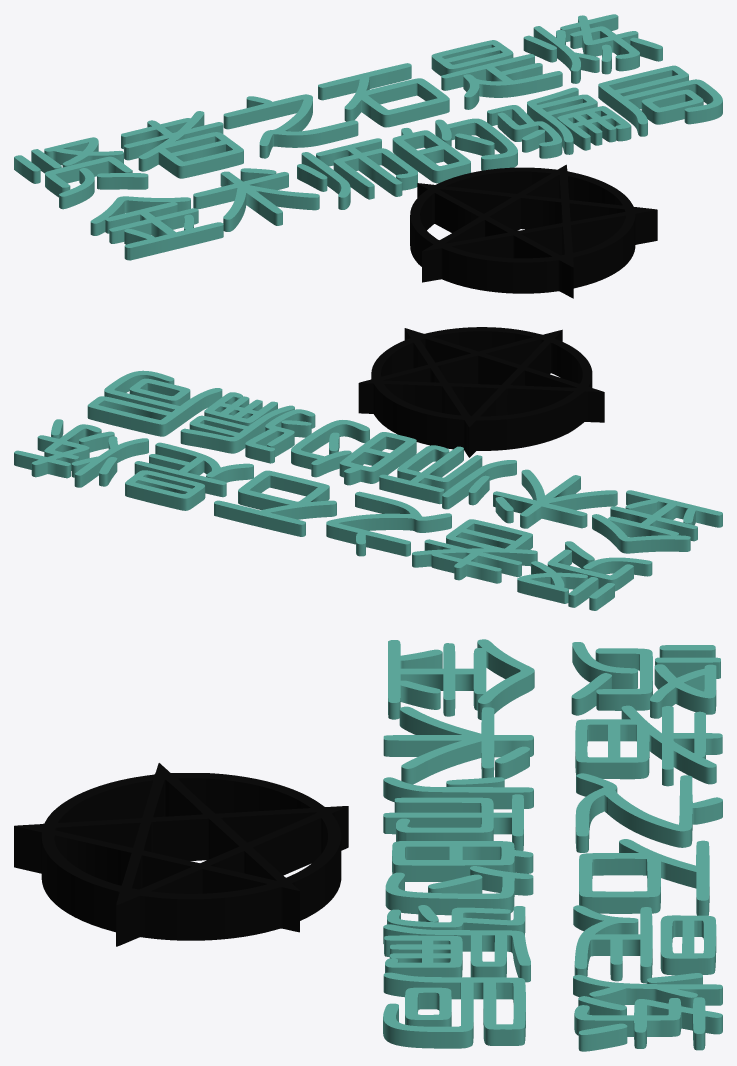
File: six.obj
3 views of the same model, one above another, from view 1: azimuth 30°, elevation 25°; view 2: azimuth 150°, elevation 25°; view 3: azimuth 270°, elevation 25° (orthographic). The views are drawn at different scales.
Parts seen in each view (by area): view 1: path0, path1; view 2: path0, path1; view 3: path0, path1.
Boxes of the visible parts, <box> form: path0: <box>14,14,722,260</box>; path1: <box>410,164,657,298</box>; path0: <box>14,370,722,610</box>; path1: <box>358,327,604,457</box>; path0: <box>383,639,722,1051</box>; path1: <box>14,763,348,946</box>.
Size of the model in its own units: 4.3 by 0.2095 by 3.25.
